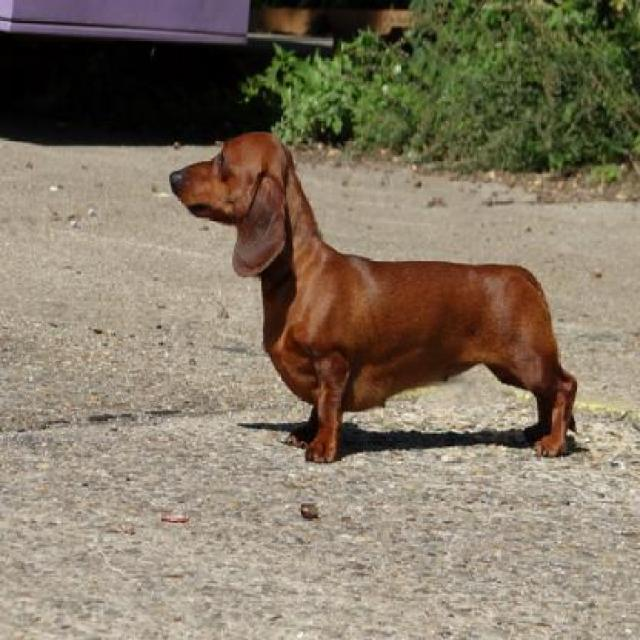Dog: (165, 128, 586, 470)
